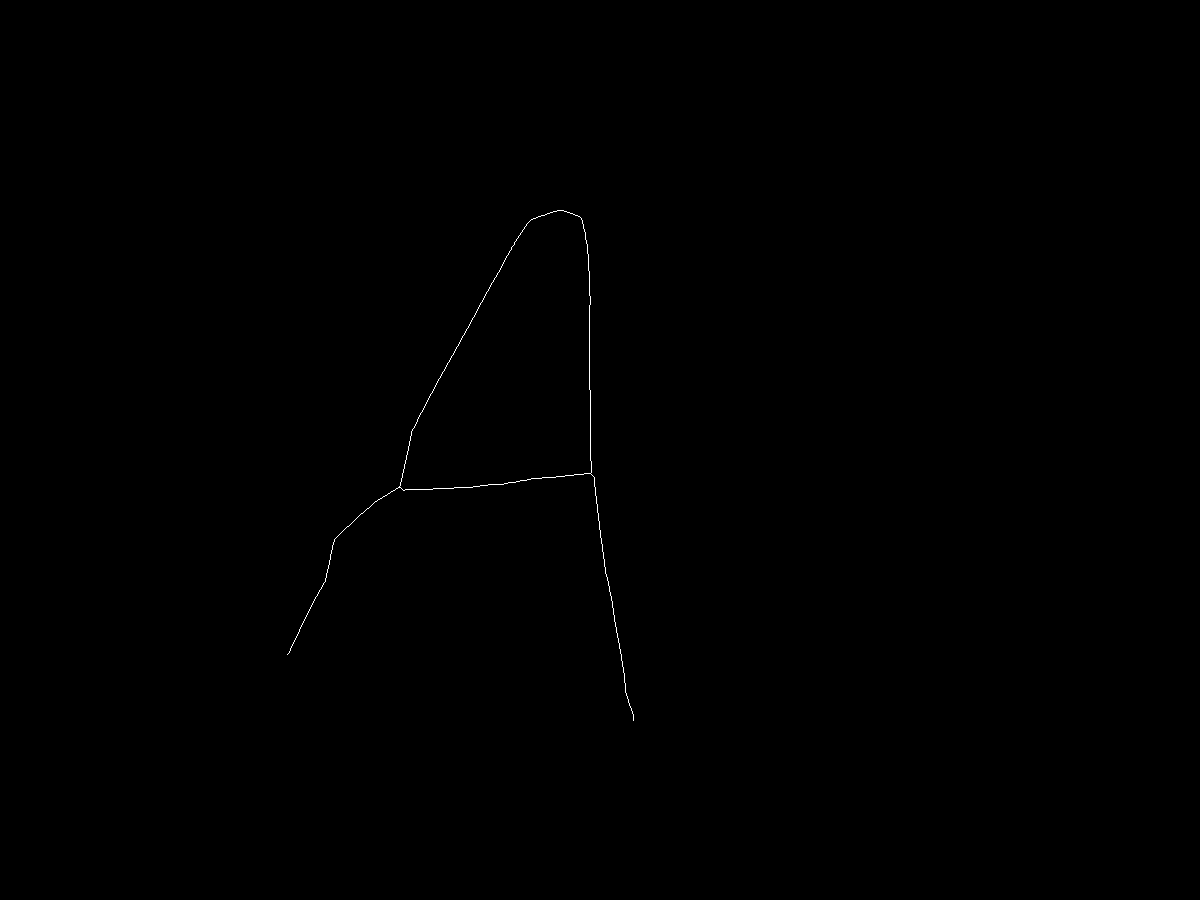dian1: (549, 202, 568, 221)
dian2: (388, 477, 407, 496)
dian3: (282, 642, 300, 660)
dian4: (583, 460, 611, 488)
dian5: (623, 712, 642, 731)
